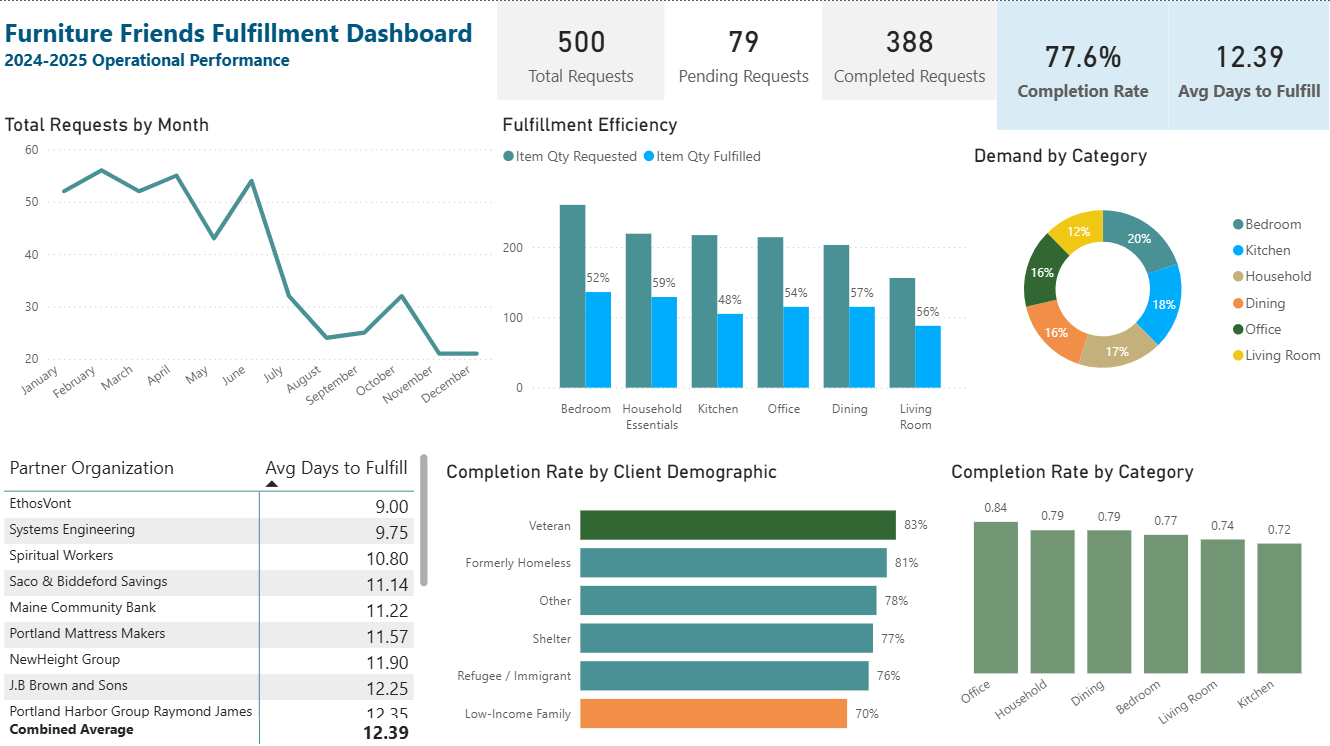

What the dashboard file says about the page in this screenshot:
{"tool":"powerbi","page":{"name":"Page 1","canvas":[1280,720],"ordinal":0},"visuals":[{"type":"clusteredColumnChart","title":"Fulfillment Efficiency","fields":{"Category":["Fact_Fulfillment_Static.Item_Category"],"Y":["Sum(Fact_Fulfillment_Static.Qty_Req)","Sum(Fact_Fulfillment_Static.Qty_Full)"]},"box":[478.7,107.8,458.6,315.5],"z":0},{"type":"card","fields":{"Values":["Dim_Client_Information.Total Requests"]},"box":[478.7,0,161.3,94.7],"z":1000},{"type":"card","fields":{"Values":["Dim_Client_Information.Completeton Rate"]},"box":[959.5,0,165.3,124],"z":2000},{"type":"card","fields":{"Values":["Dim_Client_Information.Avg Days to Fulfill"]},"box":[1124.8,0,154.2,124],"z":3000},{"type":"card","fields":{"Values":["Dim_Client_Information.Pending Requests"]},"box":[640,0,151.2,94.7],"z":4000},{"type":"lineChart","fields":{"Category":["Fact_Fulfillment_Static.Request_Date.Variation.Date Hierarchy.Month"],"Y":["Dim_Client_Information.Total Requests"]},"box":[0,107.8,478.7,304.4],"z":5000},{"type":"pivotTable","fields":{"Rows":["Dim_Partner_Organizations.PartnerOrg"],"Values":["Dim_Client_Information.Avg Days to Fulfill"]},"box":[0,429.8,425,277.9],"z":6000},{"type":"barChart","title":"Completion Rate by Client Demographic","fields":{"Category":["Dim_Client_Information.ClientTypeName"],"Y":["Dim_Client_Information.Client Completion Rate %"]},"box":[425.3,441.4,475.7,278.2],"z":7000},{"type":"donutChart","title":"Demand by Category","fields":{"Y":["Dim_Client_Information.Total Requests"],"Category":["Fact_Fulfillment_Static.Item_Category_Short"]},"box":[937.3,137.1,342.7,258],"z":8000},{"type":"card","fields":{"Values":["Dim_Client_Information.Completed Requests"]},"box":[791.2,0,168.3,94.7],"z":9000},{"type":"textbox","box":[0,9.1,478.7,67.5],"z":10000},{"type":"clusteredColumnChart","title":"Completion Rate by Category","fields":{"Category":["Fact_Fulfillment_Static.Item_Category_Short"],"Y":["Dim_Client_Information.Completion Rate"]},"box":[910.6,441.3,369.2,277.9],"z":11000}]}

Visuals, with their boxes in screenshot pixels (x1, y1, x2, y2), scaled from the page's 1280x720 canvas onto the 1330x746 screenshot:
"Fulfillment Efficiency" clusteredColumnChart: select_region(497, 112, 974, 439)
card - Dim_Client_Information.Total Requests: select_region(497, 0, 665, 98)
card - Dim_Client_Information.Completeton Rate: select_region(997, 0, 1169, 128)
card - Dim_Client_Information.Avg Days to Fulfill: select_region(1169, 0, 1329, 128)
card - Dim_Client_Information.Pending Requests: select_region(665, 0, 822, 98)
lineChart - Fact_Fulfillment_Static.Request_Date.Variation.Date Hierarchy.Month x Dim_Client_Information.Total Requests: select_region(0, 112, 497, 427)
pivotTable - Dim_Partner_Organizations.PartnerOrg x Dim_Client_Information.Avg Days to Fulfill: select_region(0, 445, 442, 733)
"Completion Rate by Client Demographic" barChart: select_region(442, 457, 936, 745)
"Demand by Category" donutChart: select_region(974, 142, 1329, 409)
card - Dim_Client_Information.Completed Requests: select_region(822, 0, 997, 98)
textbox: select_region(0, 9, 497, 79)
"Completion Rate by Category" clusteredColumnChart: select_region(946, 457, 1329, 745)
